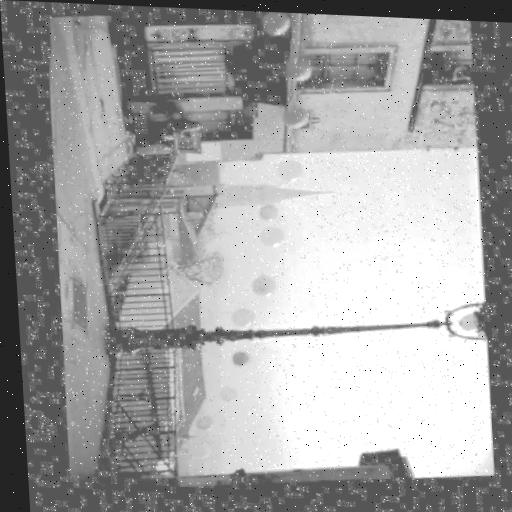balloon: (260, 15, 292, 42), (285, 64, 313, 88), (282, 109, 308, 134), (252, 278, 277, 301), (260, 229, 285, 252), (278, 164, 303, 187), (231, 310, 256, 331), (190, 444, 213, 464), (232, 353, 252, 372), (259, 208, 279, 226), (196, 417, 216, 434), (220, 389, 238, 406)
